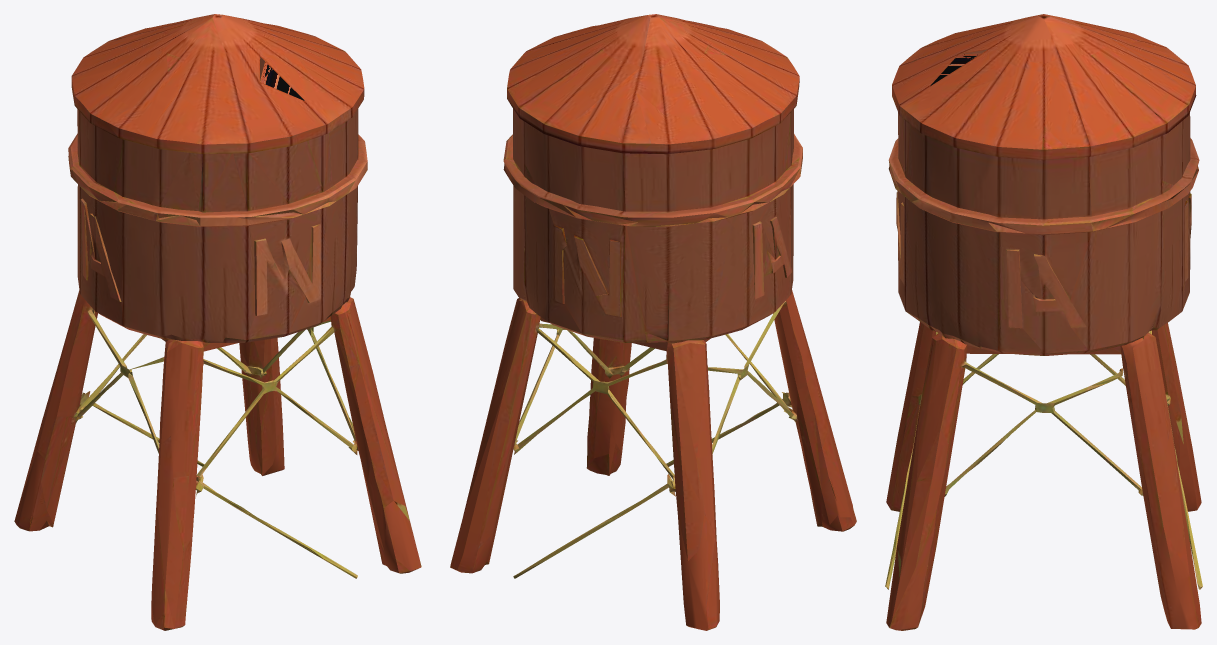
File: watertower.glb
The picture shows the model from 3 angles, left to right: view 1: azimuth 30°, elevation 25°; view 2: azimuth 150°, elevation 25°; view 3: azimuth 270°, elevation 25°; orthographic projection. The views are drawn at different scales.
Visible parts, largest first — view 1: output_unwrapped; view 2: output_unwrapped; view 3: output_unwrapped.
Part boxes in pixels (<box>): output_unwrapped: <box>14,14,421,630</box>; output_unwrapped: <box>450,14,856,630</box>; output_unwrapped: <box>885,14,1202,630</box>.
Size of the model in its own units: 0.9878 by 1.9 by 0.9954.
1 material, 1 textured.
